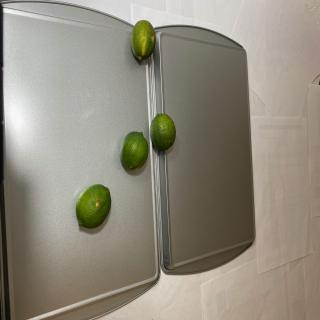Chilli: (76, 183, 112, 229)
Lemon: (120, 131, 149, 171), (130, 20, 156, 60), (150, 112, 176, 150)
